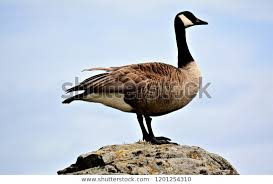goose: (54, 10, 210, 148)
